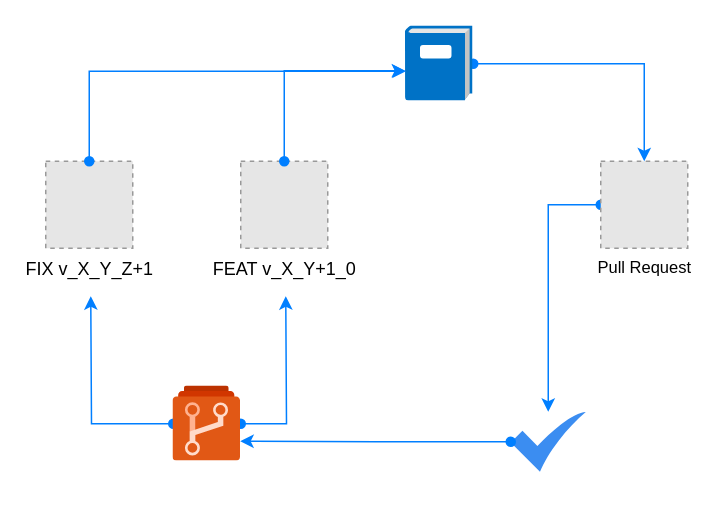
Some shapes in this 717 by 518 pixel diagram are drawn without their labels. Grey dashed boxes stand in for pictures. The box of each missing label's shape, as (x1, y1, x2, y2) in pixels:
CHANGELOG.md: (405, 26, 472, 100)
sz-deathStar-infra/latest: (172, 386, 240, 460)
